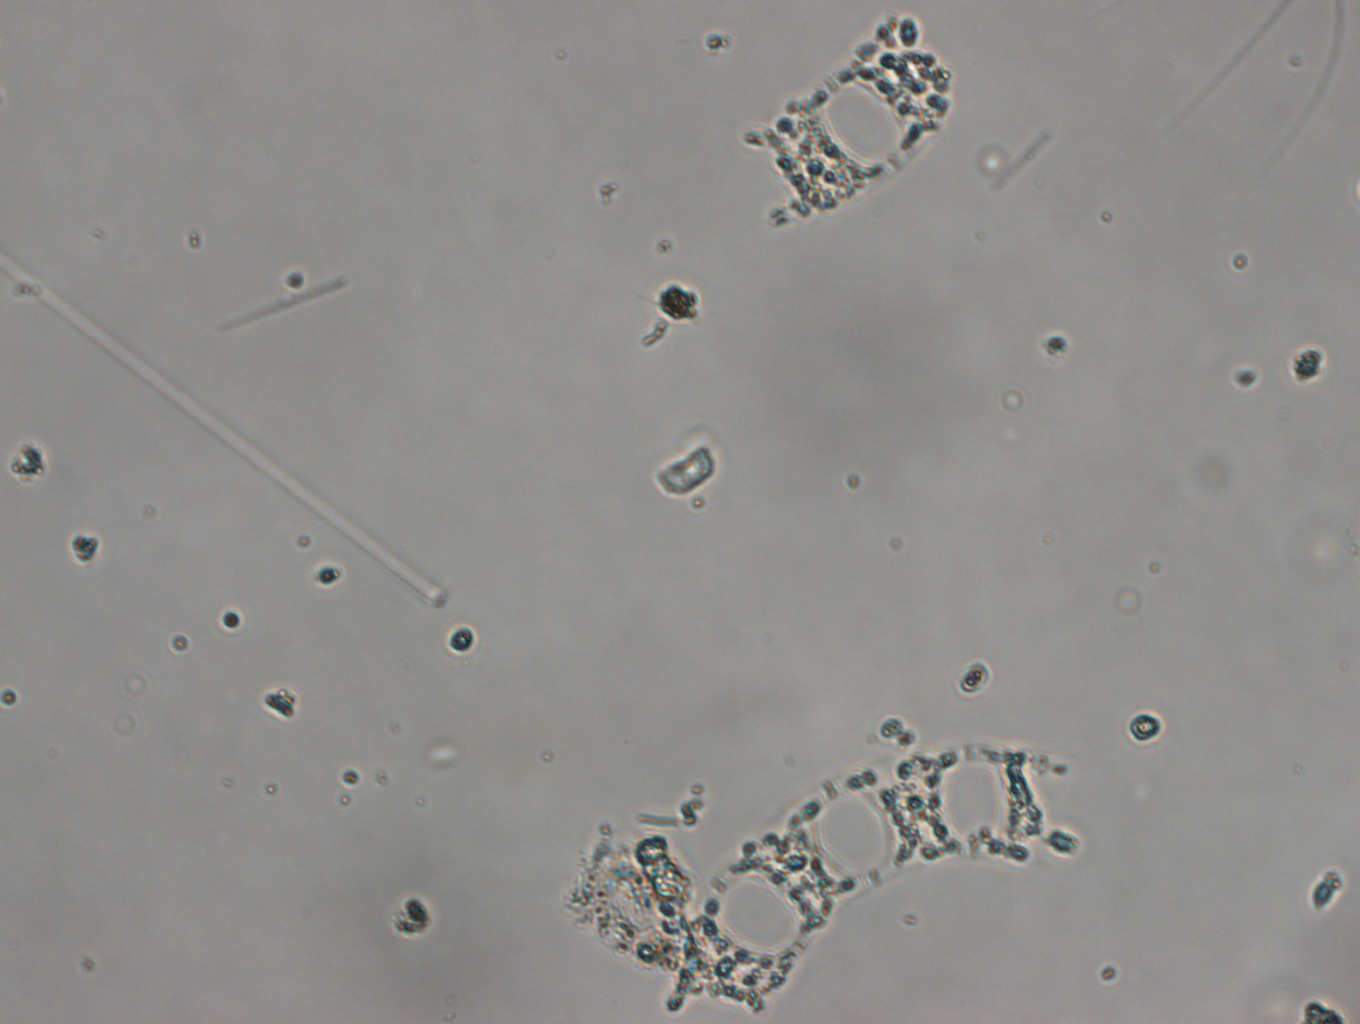eucampia: (659, 734, 1080, 999), (758, 16, 957, 221)
